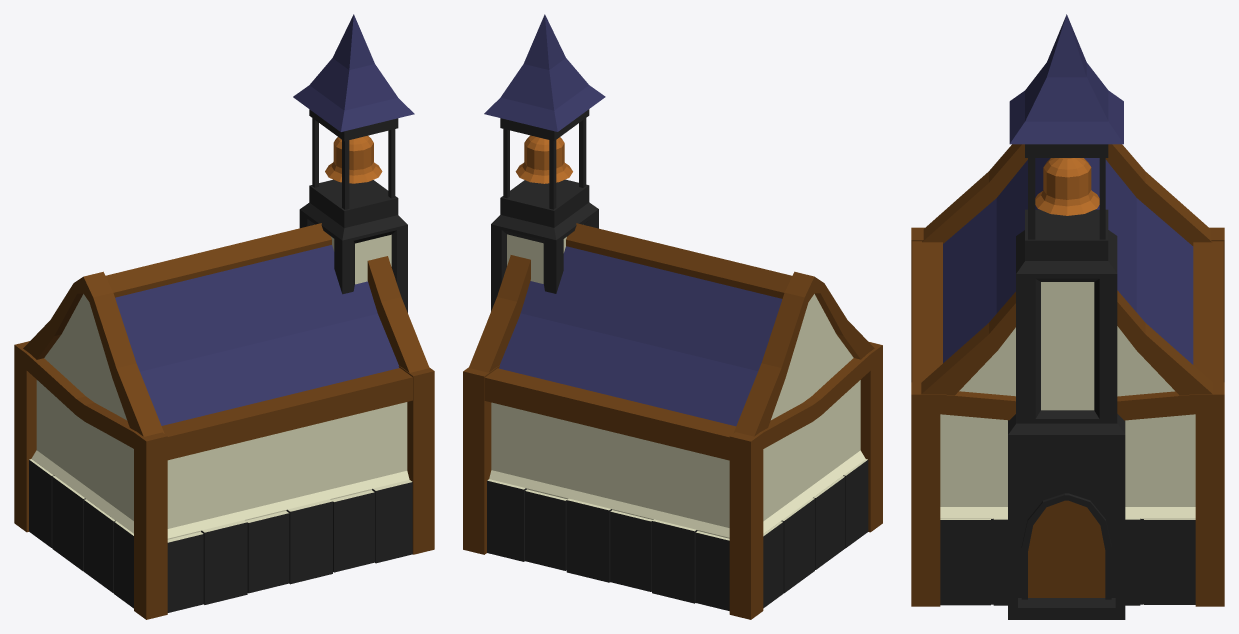
Rendered from House2.fbx.
The picture shows the model from 3 angles, left to right: view 1: azimuth 30°, elevation 25°; view 2: azimuth 150°, elevation 25°; view 3: azimuth 270°, elevation 25°; orthographic projection. The views are drawn at different scales.
Parts seen in each view (by area): view 1: Cube.020; view 2: Cube.020; view 3: Cube.020.
Boxes of the visible parts, x1,y1,x2,y2 form: Cube.020: (14, 14, 434, 619); Cube.020: (463, 14, 882, 619); Cube.020: (911, 14, 1224, 619).
Size of the model in its own units: 1778 by 2687 by 1308.
